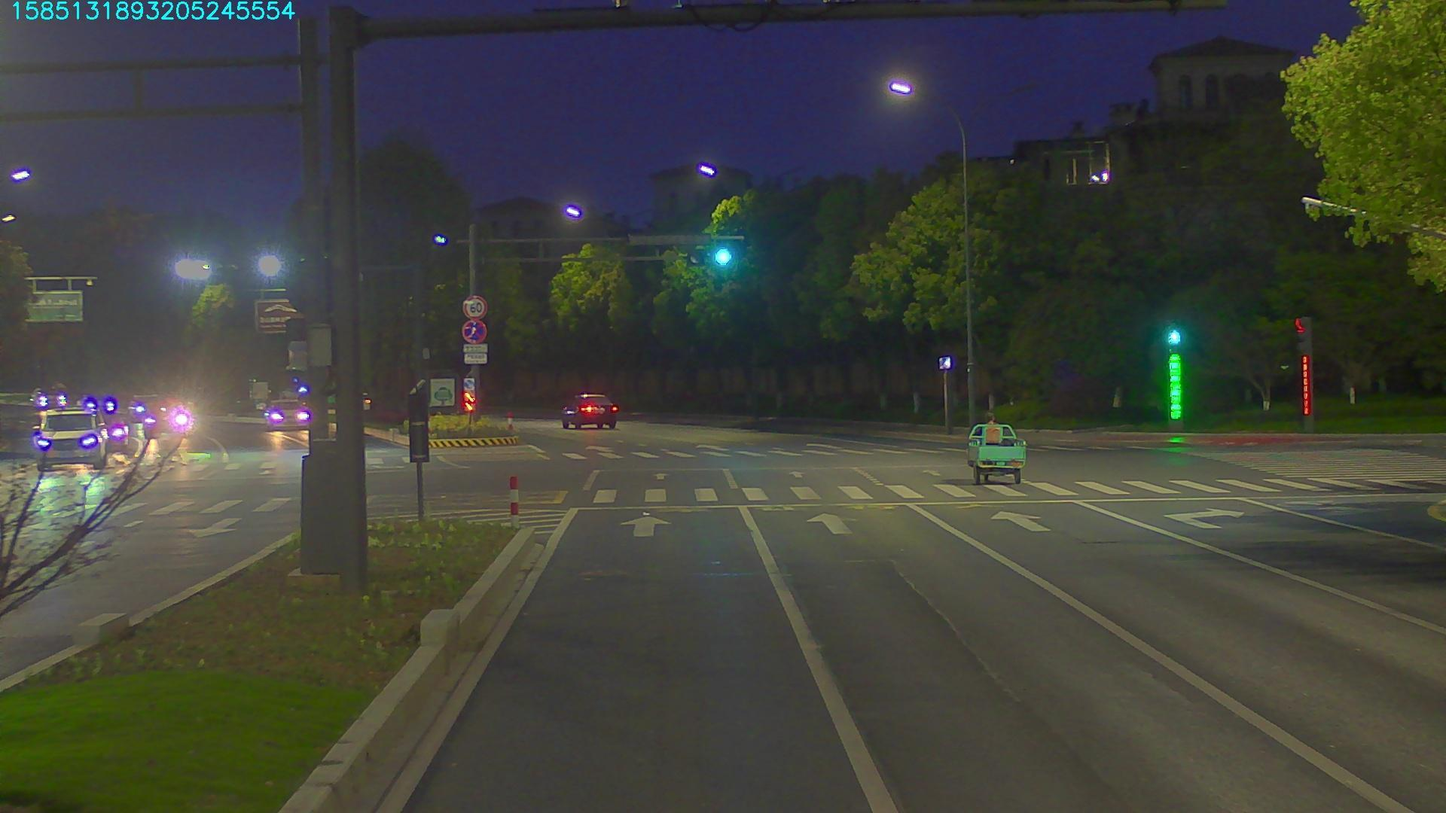green: (707, 239, 731, 264)
